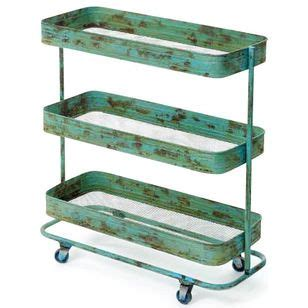Carts: (40, 5, 267, 305)
